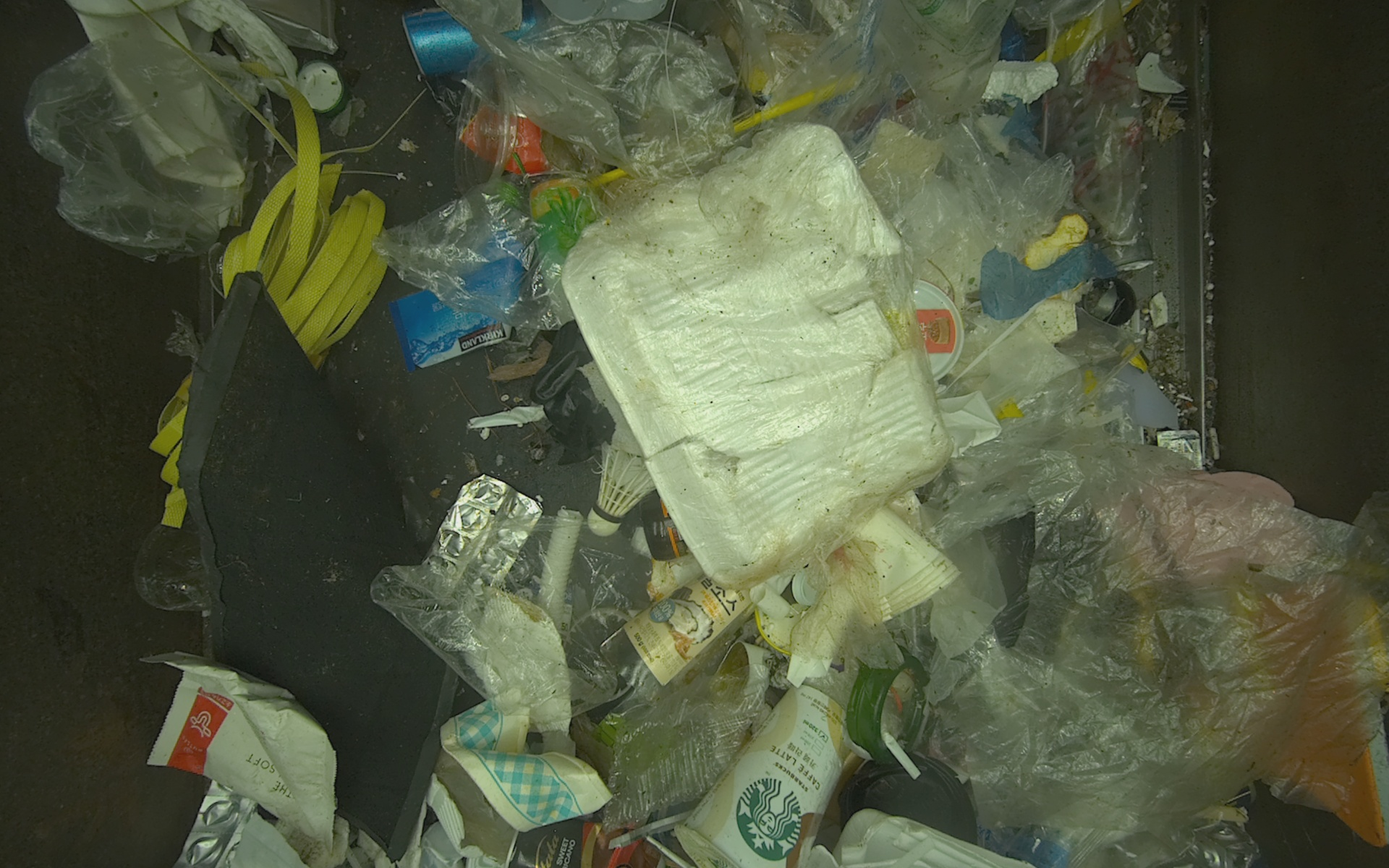PET-C: (601, 664, 769, 837), (453, 47, 518, 195)
